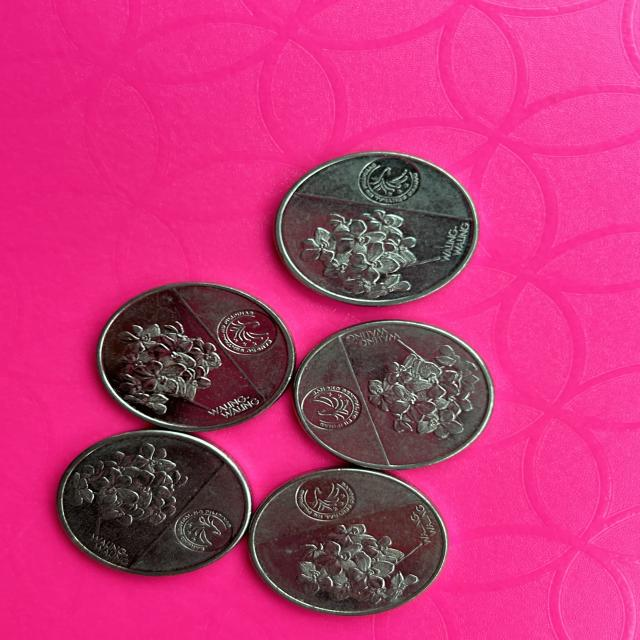1_New_Back: (268, 519, 435, 609), (284, 199, 426, 299), (110, 312, 250, 412), (357, 330, 477, 438), (61, 445, 186, 530)
